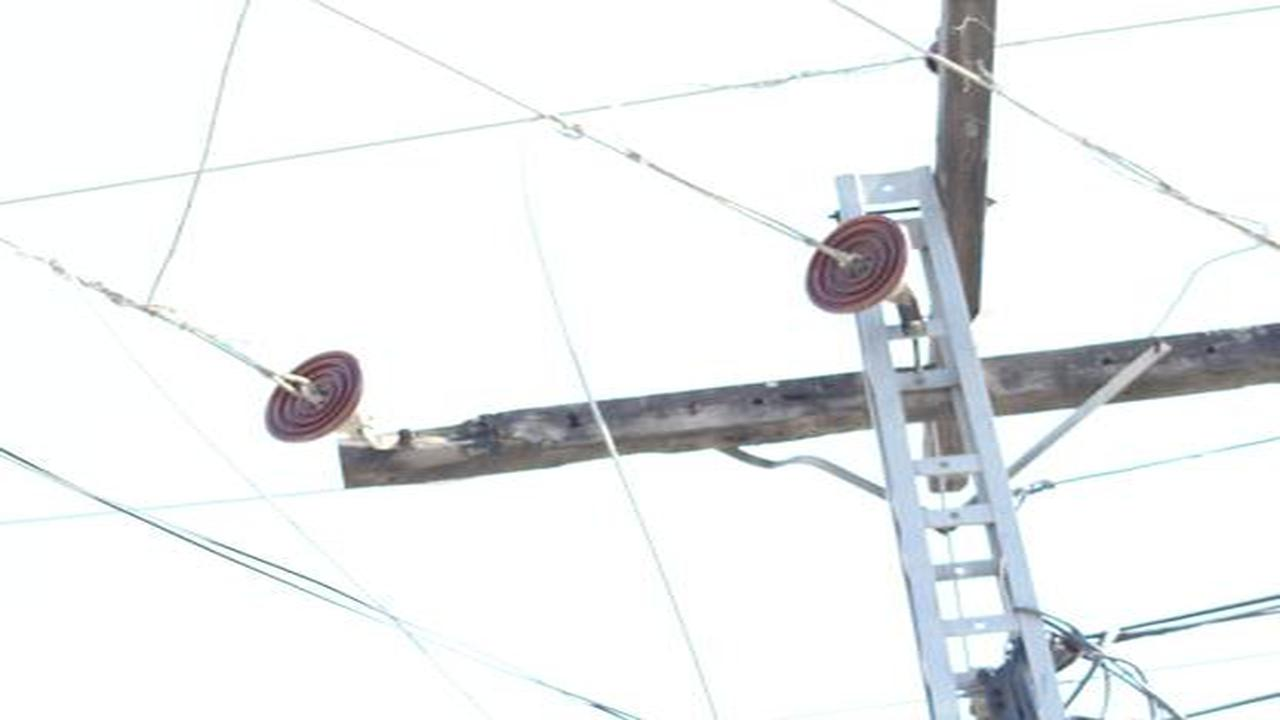insulator_disc: (798, 216, 913, 316), (261, 348, 367, 451)
